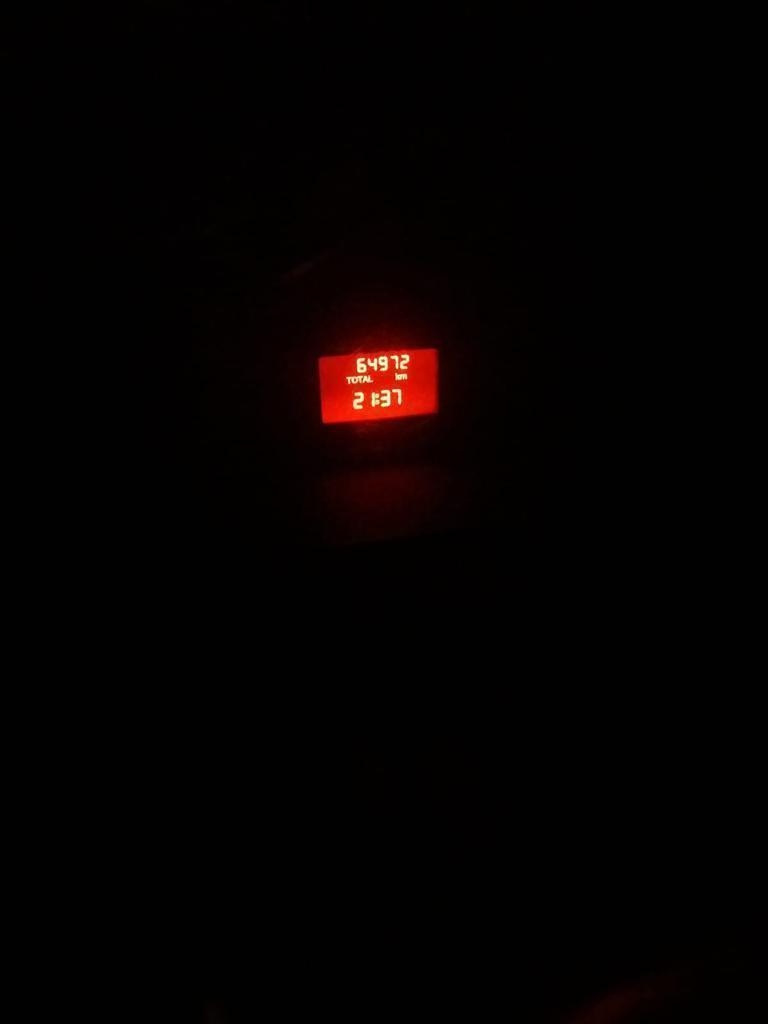1: (370, 391, 375, 407)
2: (352, 391, 364, 410), (399, 354, 409, 369)
3: (379, 389, 390, 407)
4: (367, 357, 377, 371)
6: (356, 357, 366, 372)
7: (391, 388, 402, 405), (389, 355, 398, 369)
9: (378, 356, 388, 371)
X: (375, 393, 380, 405), (399, 373, 407, 380), (351, 375, 358, 383), (394, 372, 400, 380), (367, 375, 373, 383), (362, 375, 368, 383), (357, 375, 363, 383), (346, 376, 351, 384)
odometer: (312, 344, 441, 426)
